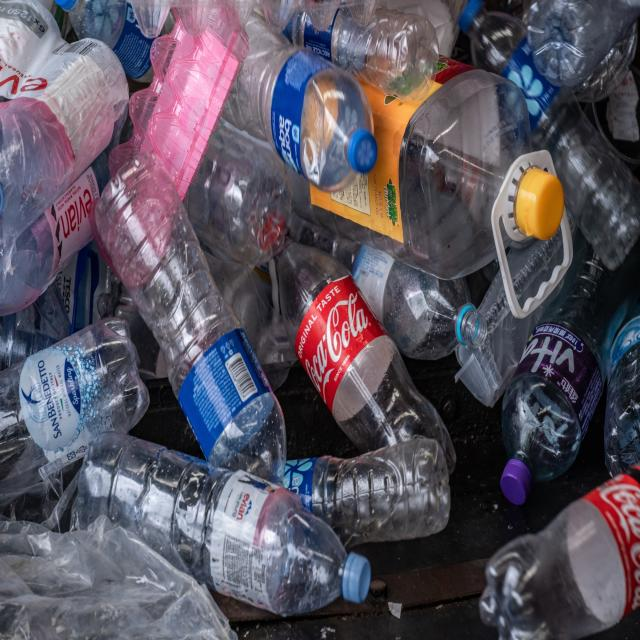plastic: (67, 428, 444, 622), (299, 62, 573, 316), (101, 157, 278, 471), (268, 211, 487, 462), (456, 0, 640, 297), (453, 277, 640, 500), (232, 0, 434, 179), (485, 462, 640, 640), (1, 326, 144, 490)
